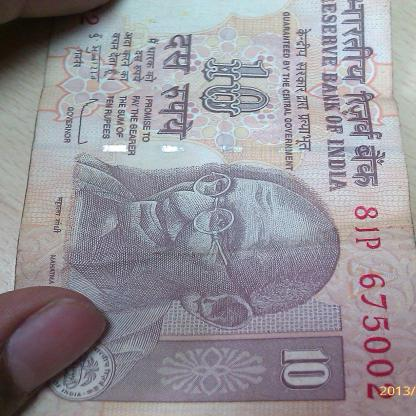Old10Front: (15, 0, 416, 416)
